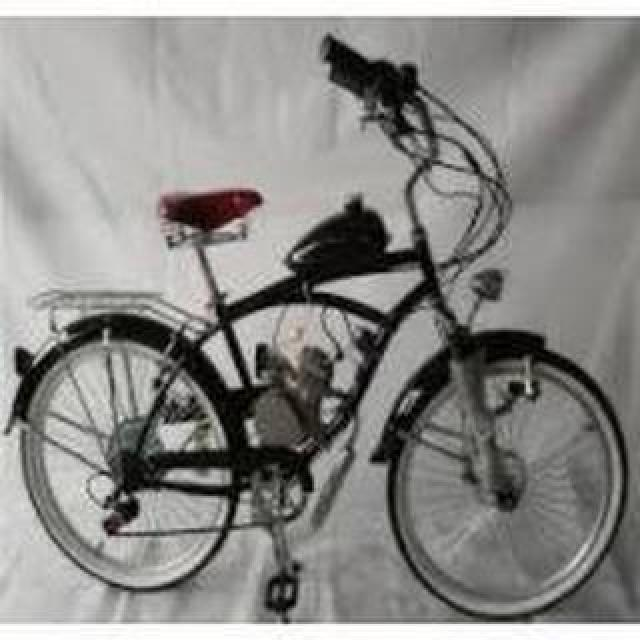Person: (0, 31, 634, 623)
